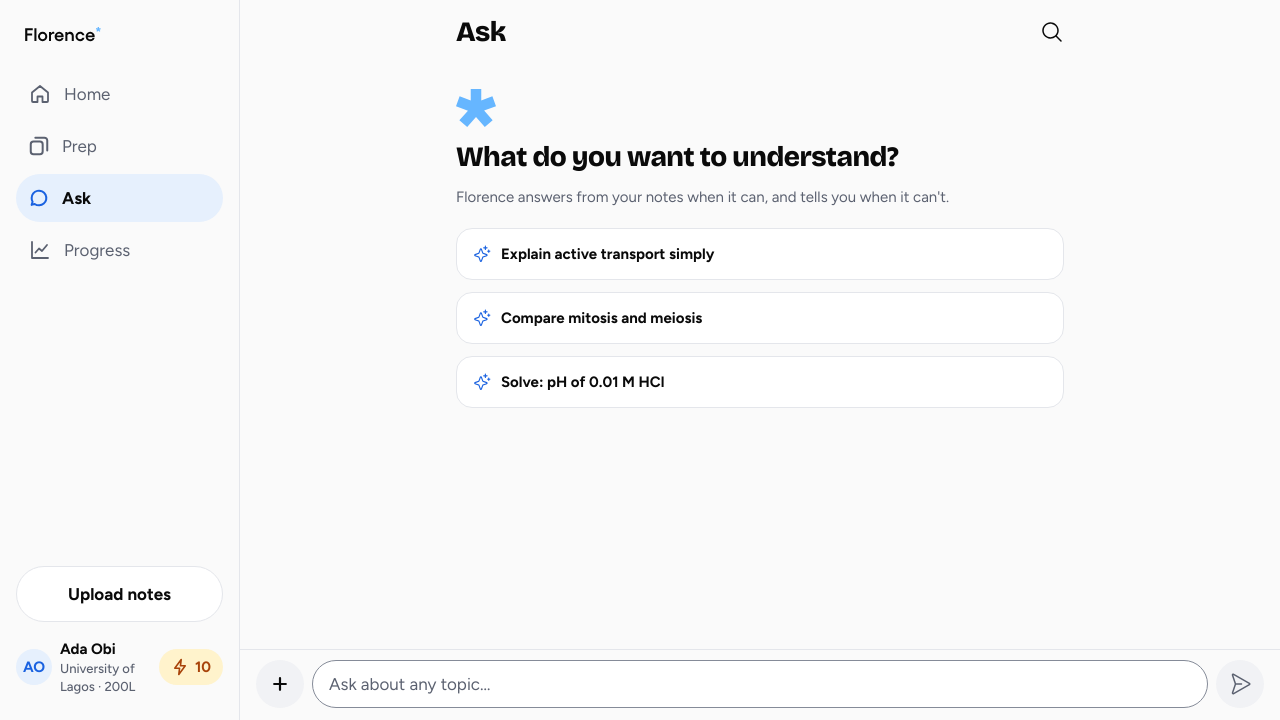
Ask › creates a conversation, streams the answer with its sources and updates the balance
Expected: the link named "10 tokens" is shown, [159,649,223,685]
Type "Why does protein building slow down?" into the field named "Message" at (760, 684), box [312,660,1208,708]
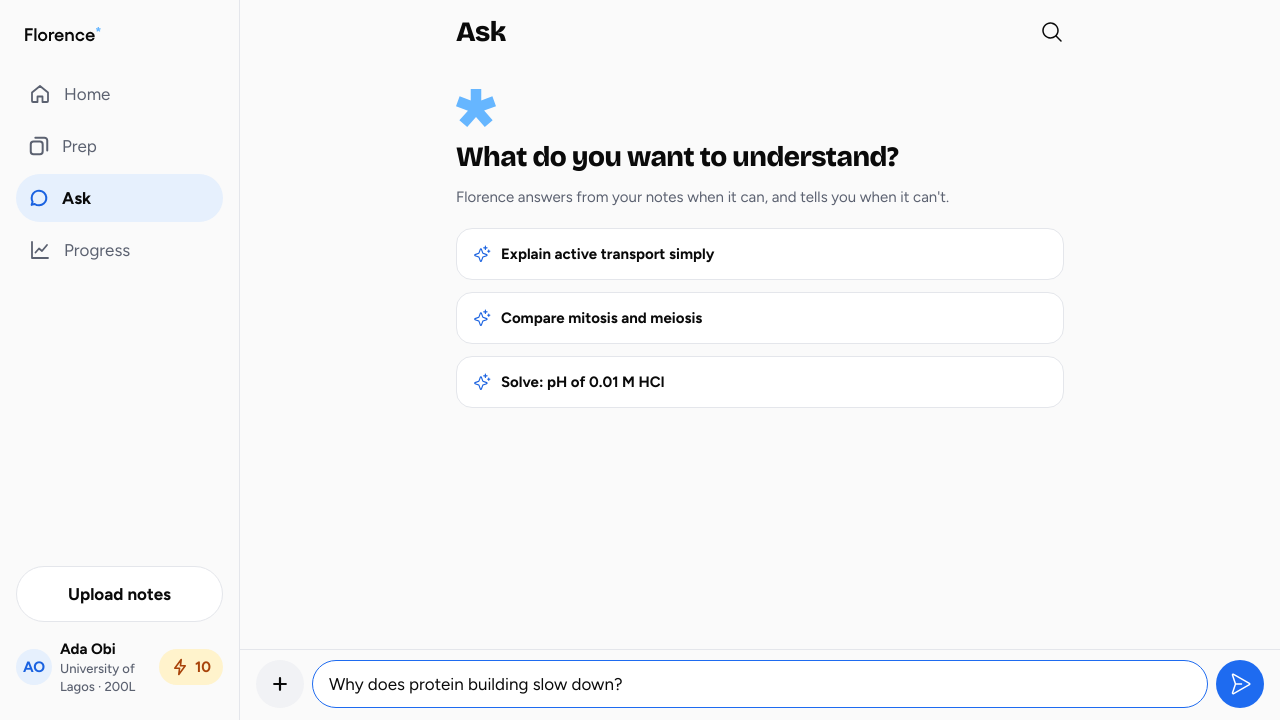
Click the button named "Send" at (1240, 684), box [1216,660,1264,708]
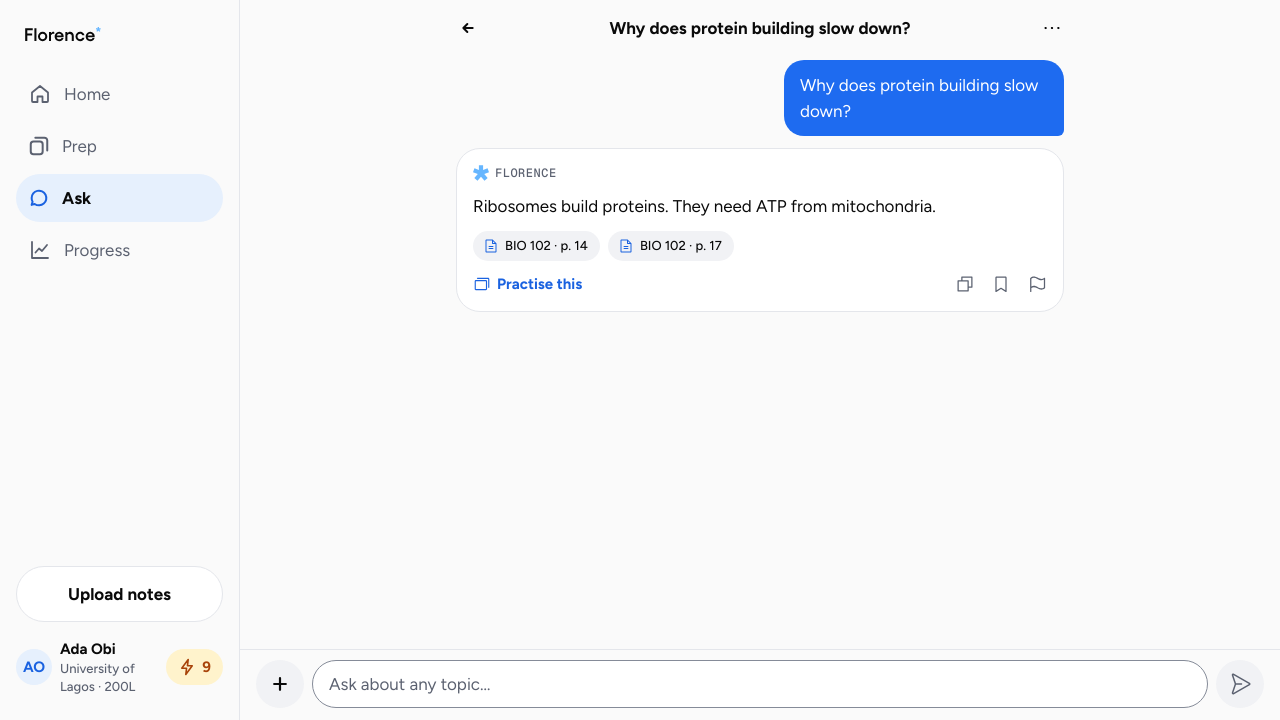
Result: the text "Ribosomes build proteins. They need ATP from mitochondria." is shown at [473,196,936,216]
Result: the button "BIO 102 · p. 14" is shown at [473,231,600,261]
Result: the button "BIO 102 · p. 17" is shown at [608,231,734,261]
